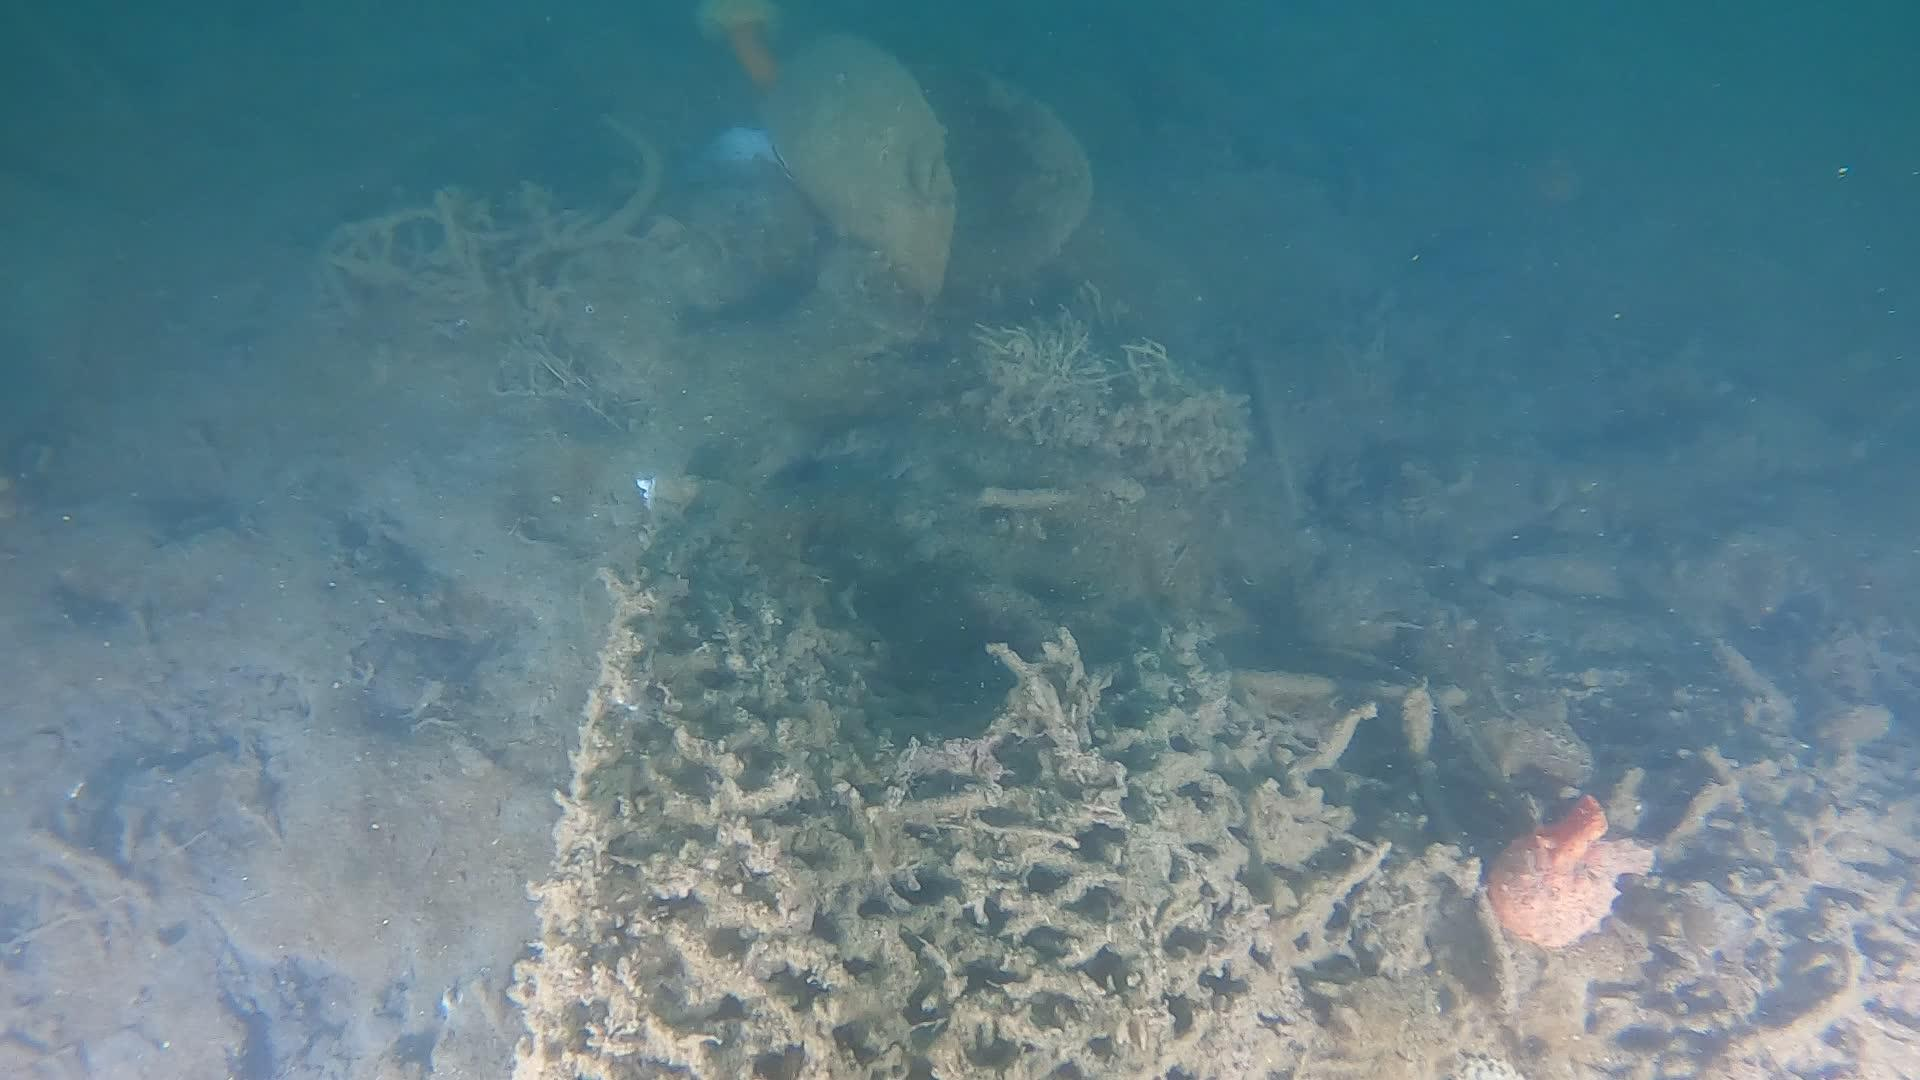fish net: (495, 464, 1473, 1080)
